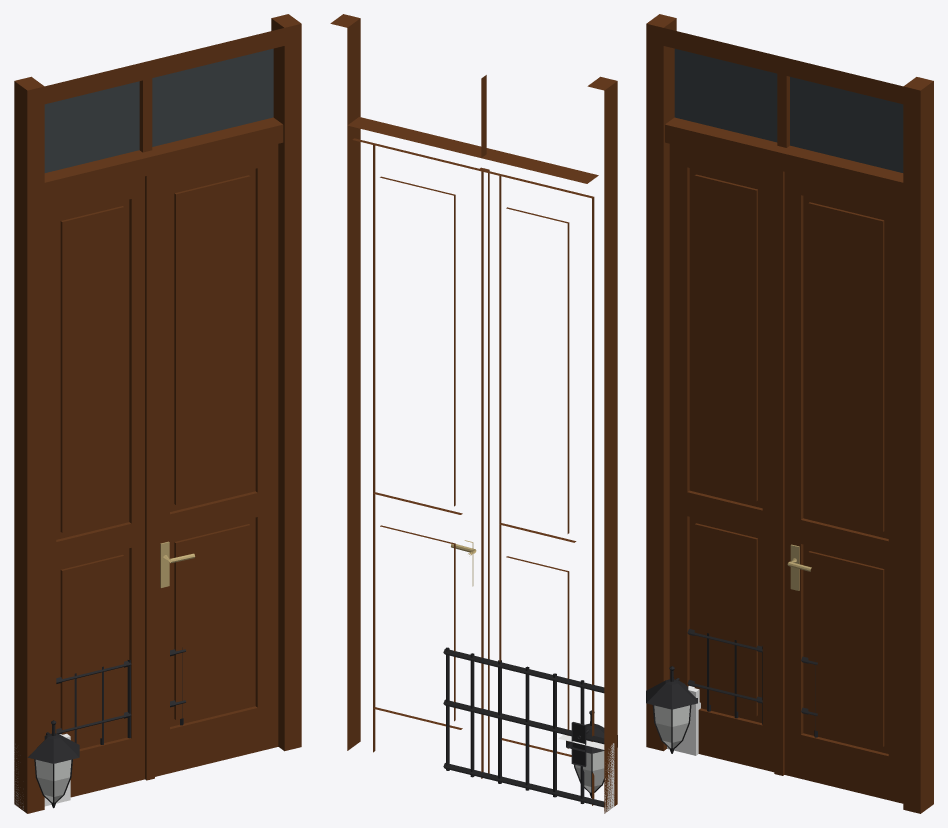
The model's file is msk2-ochre-fittings.glb.
3 renders of one model, left to right at view 1: azimuth 30°, elevation 25°; view 2: azimuth 150°, elevation 25°; view 3: azimuth 330°, elevation 25°, orthographic.
Visible parts, largest first — view 1: door, lantern, grille-o; view 2: door, grille-o, lantern, mailbox; view 3: door, lantern, grille-o, mailbox.
Boxes of the visible parts, <box> form: door: <box>14,14,301,813</box>; lantern: <box>28,720,79,808</box>; grille-o: <box>56,647,185,744</box>; door: <box>330,14,617,813</box>; grille-o: <box>443,647,604,807</box>; lantern: <box>566,710,617,797</box>; mailbox: <box>558,734,614,813</box>; door: <box>646,14,933,813</box>; lantern: <box>646,666,697,753</box>; grille-o: <box>687,629,817,737</box>; mailbox: <box>667,686,700,755</box>.
Size of the model in its own units: 1.43 by 3.62 by 0.2397.
